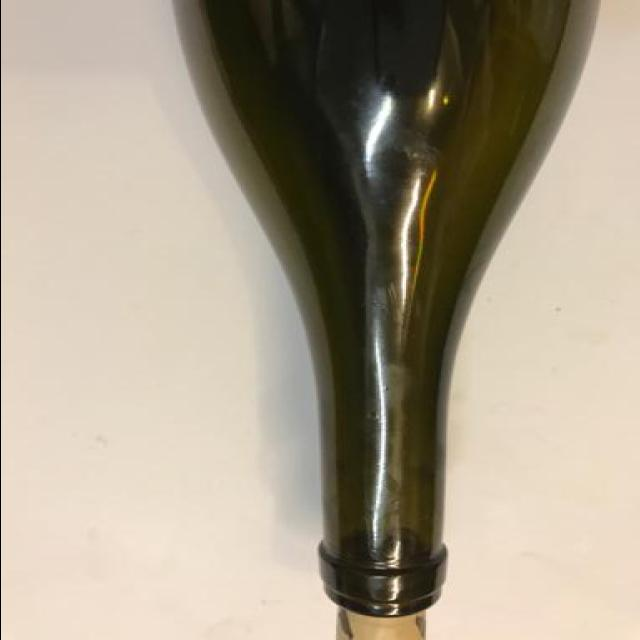glass: (171, 0, 572, 640)
